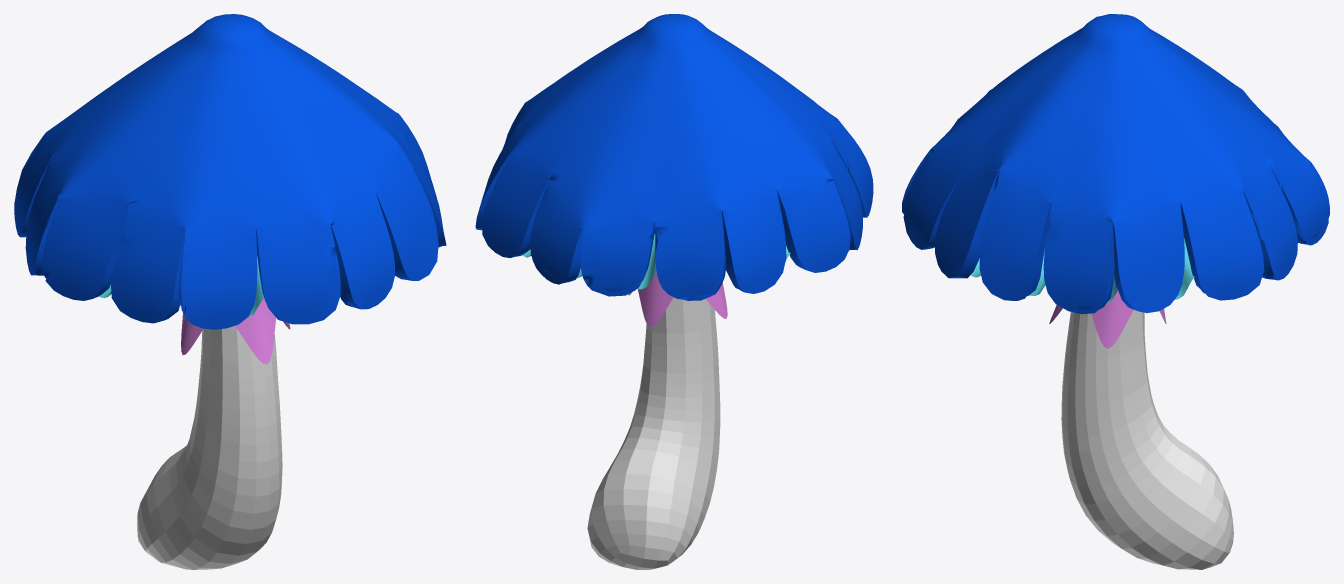
The model's file is l_grzyb_ladny_3.fbx.
The picture shows the model from 3 angles, left to right: view 1: azimuth 30°, elevation 25°; view 2: azimuth 150°, elevation 25°; view 3: azimuth 270°, elevation 25°; orthographic projection. The views are drawn at different scales.
Visible parts, largest first — view 1: Cube.003 Remeshed, Cube Remeshed, Cube.001; view 2: Cube.003 Remeshed, Cube Remeshed, Cube.001; view 3: Cube.003 Remeshed, Cube Remeshed, Cube.001, Cube.002.
Part boxes in pixels (x1,y1,x2,y2): Cube.003 Remeshed: [14, 14, 446, 329]; Cube Remeshed: [137, 326, 282, 569]; Cube.001: [181, 298, 290, 364]; Cube.003 Remeshed: [475, 14, 873, 300]; Cube Remeshed: [587, 297, 720, 569]; Cube.001: [628, 273, 727, 327]; Cube.003 Remeshed: [902, 14, 1329, 314]; Cube Remeshed: [1061, 310, 1233, 569]; Cube.001: [1049, 290, 1166, 348]; Cube.002: [971, 238, 1194, 303].
Bounding box in the file's own units: 486 × 675 × 486.
